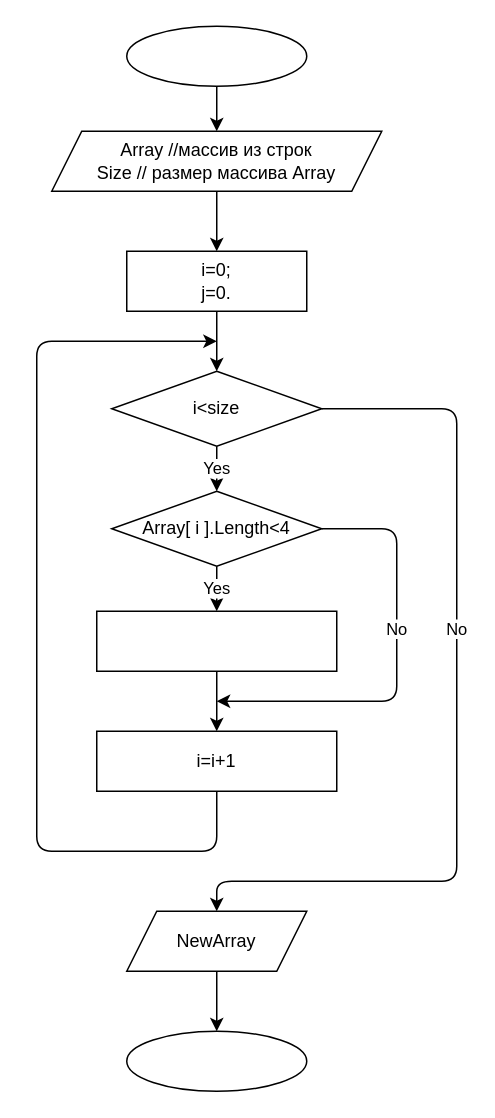
Image size: 495x1118. Some labels were removed from this diagram. Here are the shapes that lost their labels. From the top down, the centre of each, then its label:
point 216,55: Начало
point 216,640: NewArray[ j ]=Array[ i ]; j = j +1
point 216,1060: Конец
